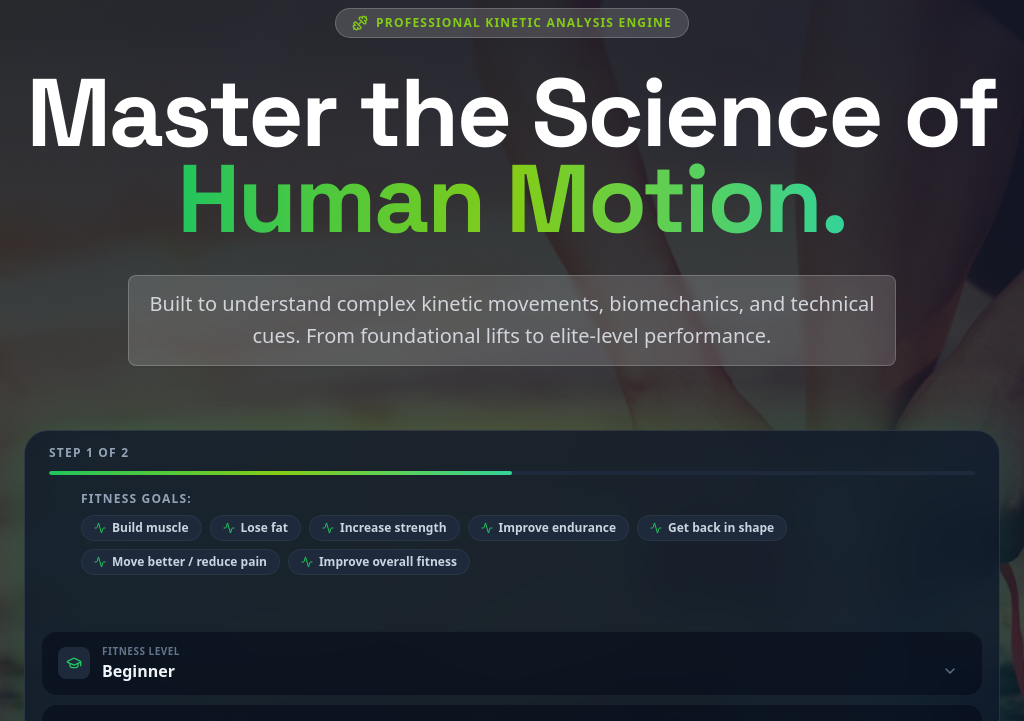
Test: OnboardingWizard › should show preview when submit is clicked with valid data
// Complete step 1
What coordinates should you click on to do the following:
click the button "Build muscle"
I would click on:
 (141, 528)
Its box is [81, 515, 202, 541].
(page scrolled)
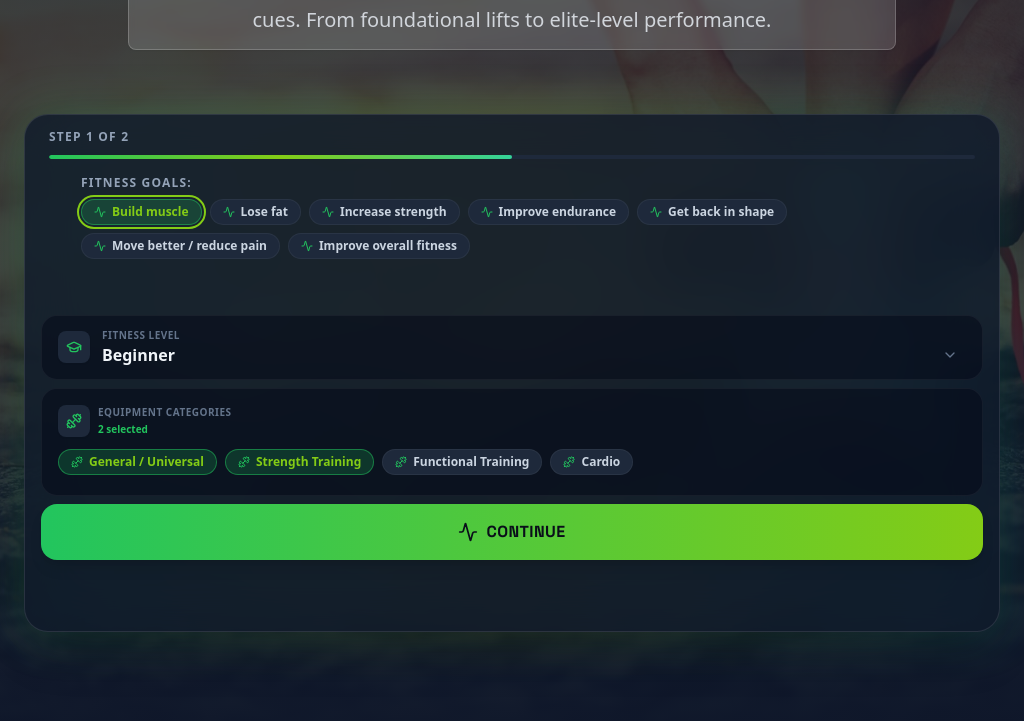
What coordinates should you click on to do the following:
click the button "CONTINUE"
I would click on:
 (512, 532)
Its box is [41, 504, 983, 560].
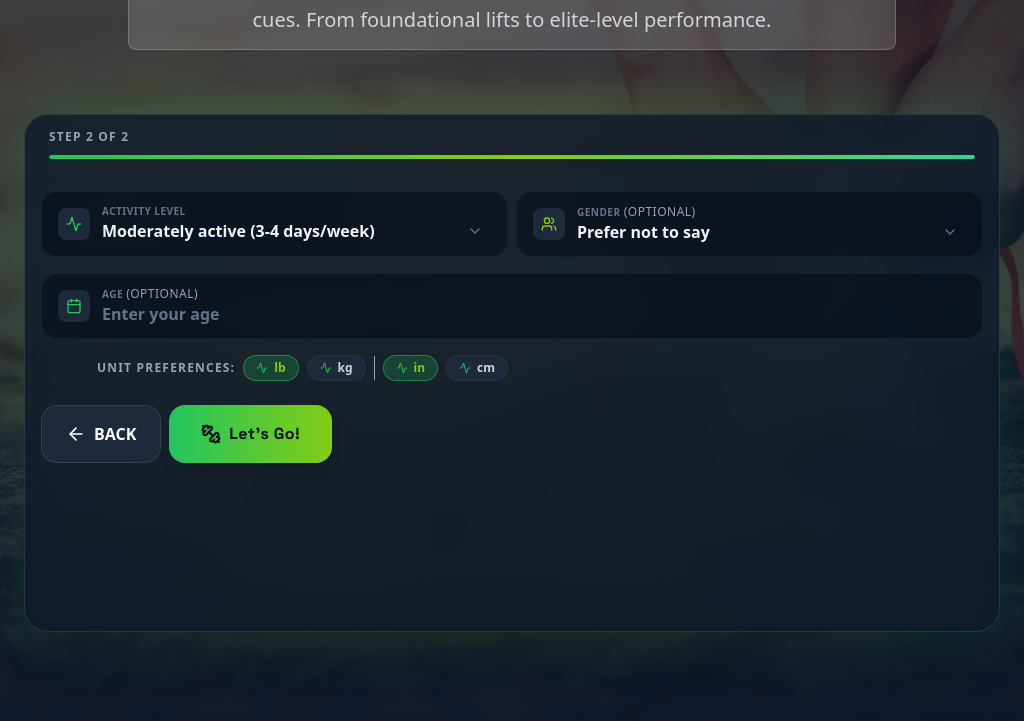
Check: the text "Step 2 of 2" is shown, box [49, 128, 129, 145]
// Submit step 2
What coordinates should you click on to do the following:
click the button "Let's Go!"
I would click on:
 (251, 434)
Its box is [169, 405, 332, 463].
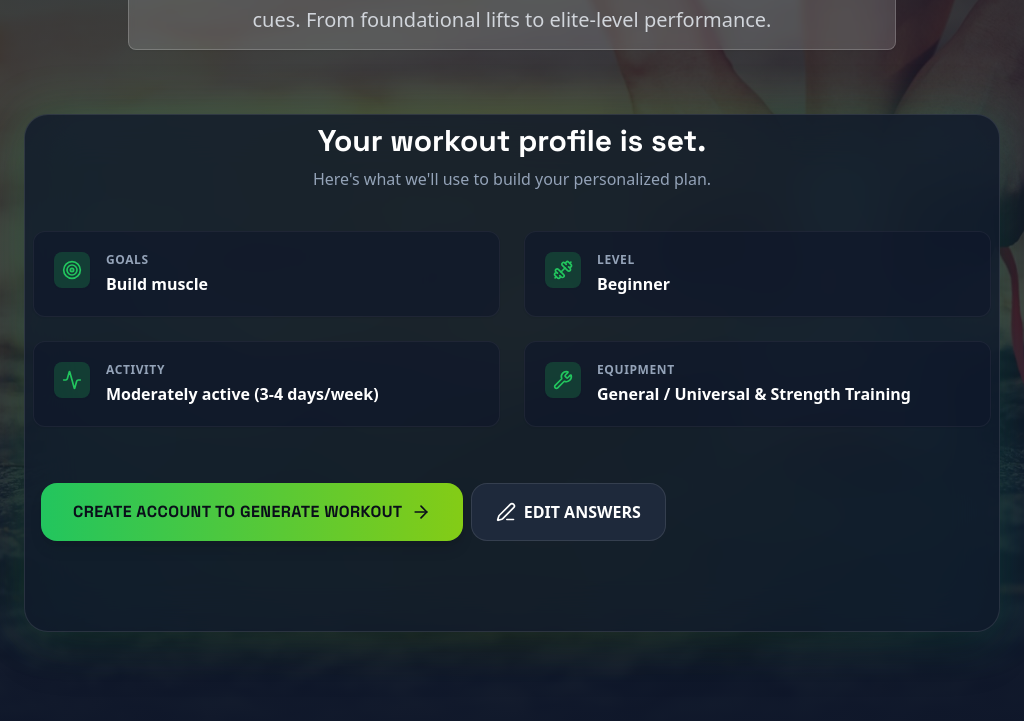
Check: the heading "Your workout profile is set." is shown, box [318, 121, 706, 160]
